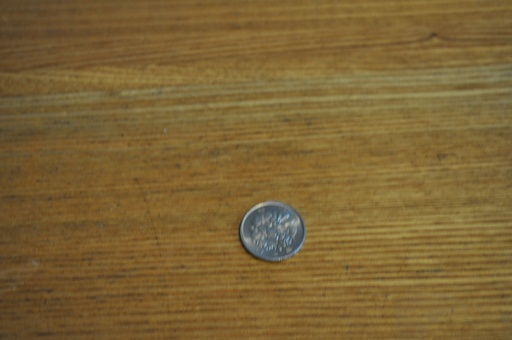100yen: (240, 202, 304, 261)
